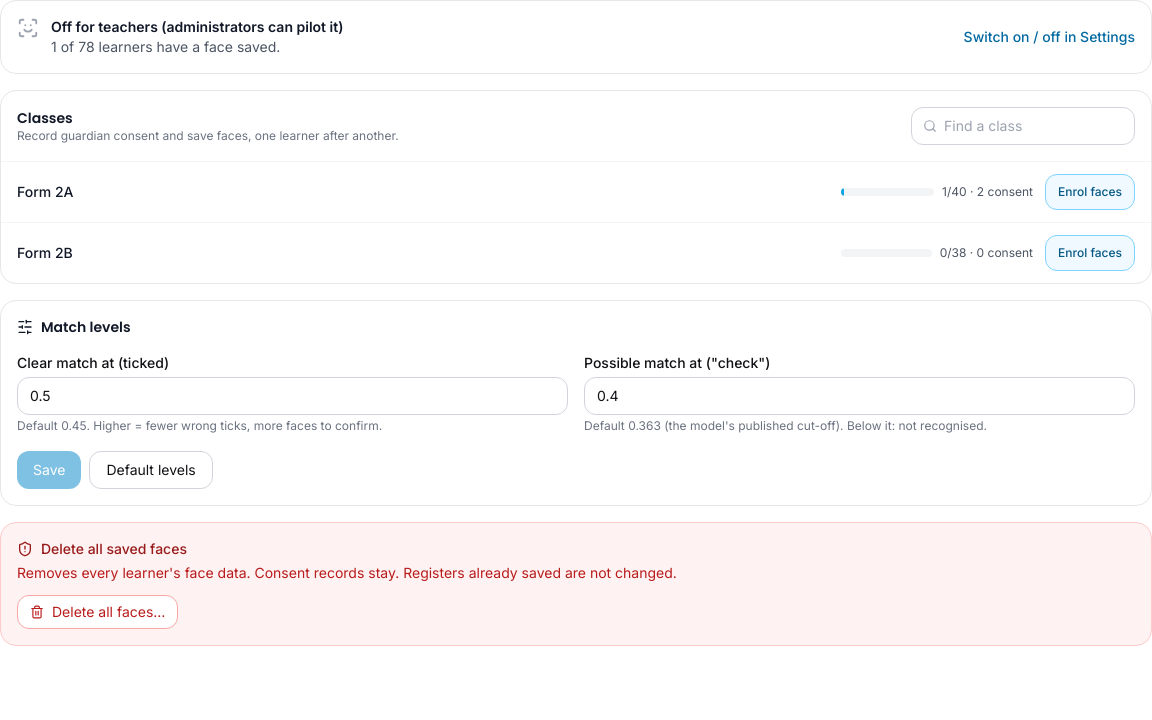
it: Attendance → Face recognition › filters classes by name
Expected: the text "Form 2A" is shown, [17, 183, 74, 200]
Step 1. Type "2b" into the field labelled "Find a class" → (1023, 126), box [911, 107, 1135, 145]
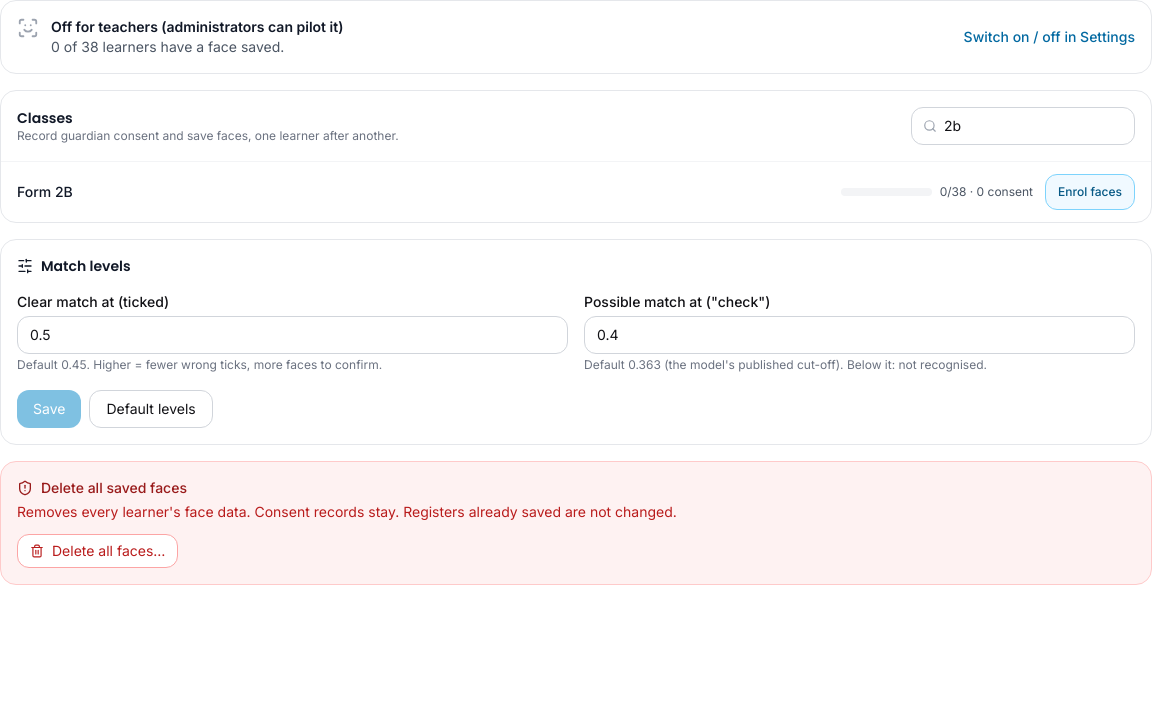
Expected: the text "Form 2B" is shown, [17, 183, 73, 200]
Result: the text "Form 2A" is gone
